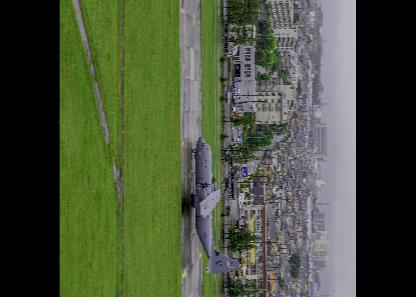Be200: (192, 138, 240, 276)
